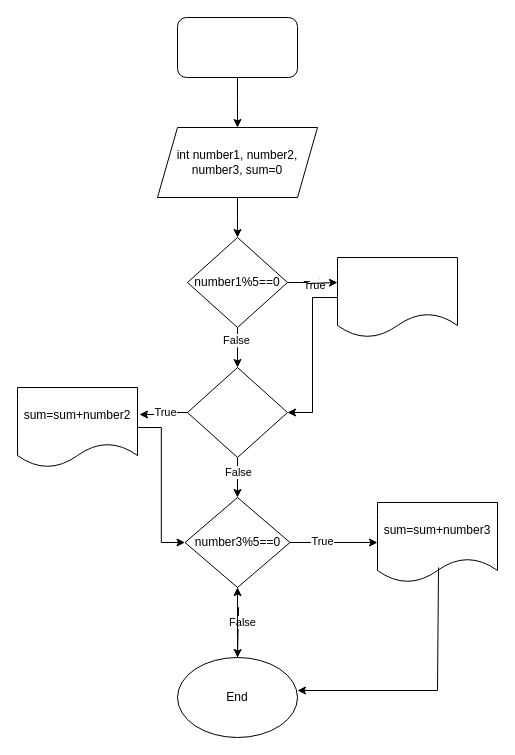
Some shapes in this 515 by 755 pixel diagram are drawn without their labels. The centre of each missing label's shape, as x and y in pixels:
"number2%5==0" belongs at [237,412].
"Start" belongs at [237,47].
"sum=sum+number1" belongs at [397,297].
